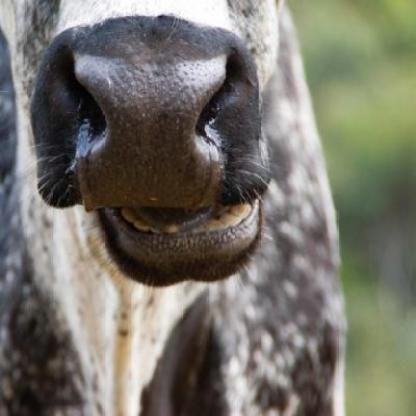lower: (168, 256, 208, 280)
mouth: (34, 38, 270, 283)
upper: (132, 106, 167, 134)
